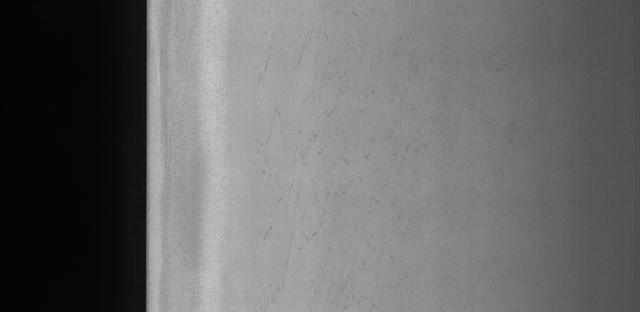silk_spot: (238, 95, 362, 288)
